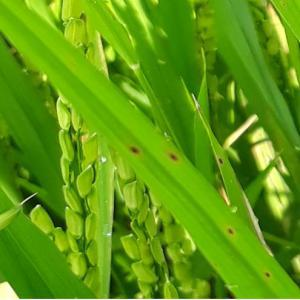0 BrownSpot: (125, 140, 145, 159), (163, 148, 181, 164), (222, 224, 239, 238), (259, 267, 276, 281), (214, 153, 226, 167)
